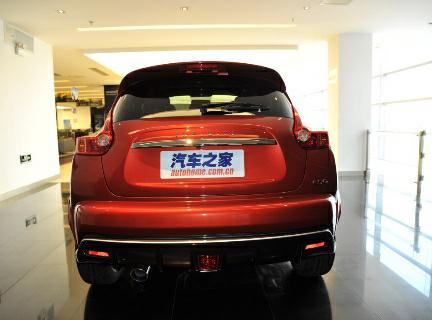英菲尼迪-ESQ: (67, 56, 343, 291)
